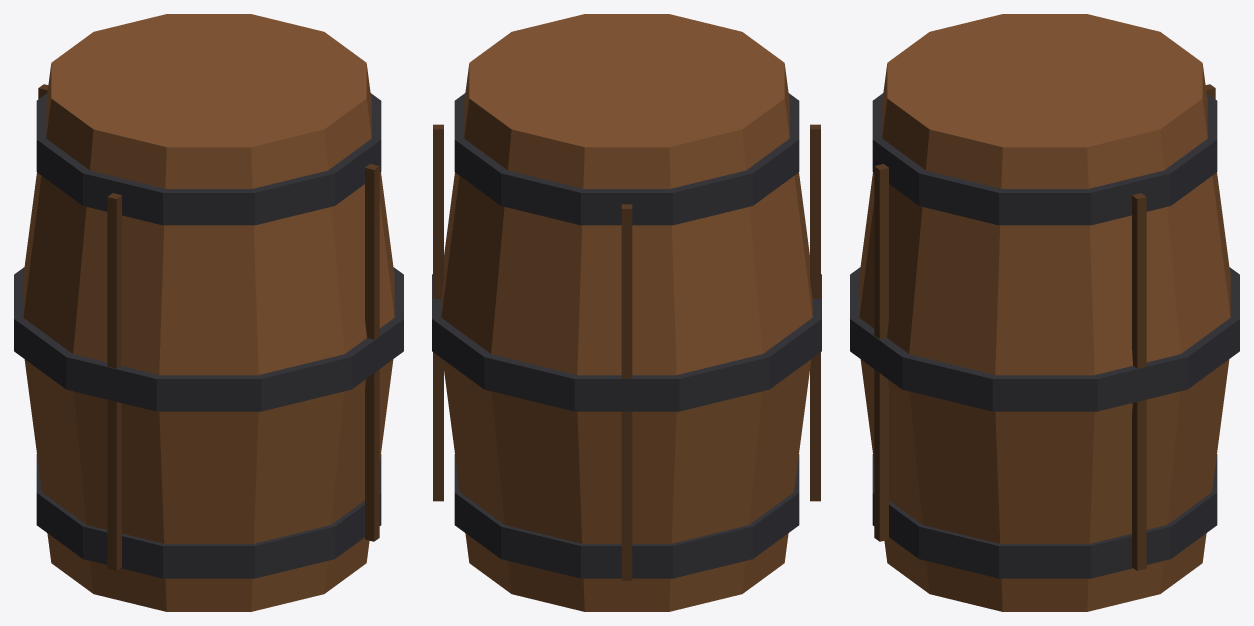
The model's file is Barrel_Large.fbx.
The picture shows the model from 3 angles, left to right: view 1: azimuth 30°, elevation 25°; view 2: azimuth 150°, elevation 25°; view 3: azimuth 270°, elevation 25°; orthographic projection.
Parts seen in each view (by area): view 1: Barrel_Large; view 2: Barrel_Large; view 3: Barrel_Large.
Part boxes in pixels (x1,y1,x2,y2): Barrel_Large: [14, 14, 403, 611]; Barrel_Large: [432, 14, 821, 611]; Barrel_Large: [850, 14, 1239, 611].
Bounding box in the file's own units: 0.7225 × 0.95 × 0.7225.
